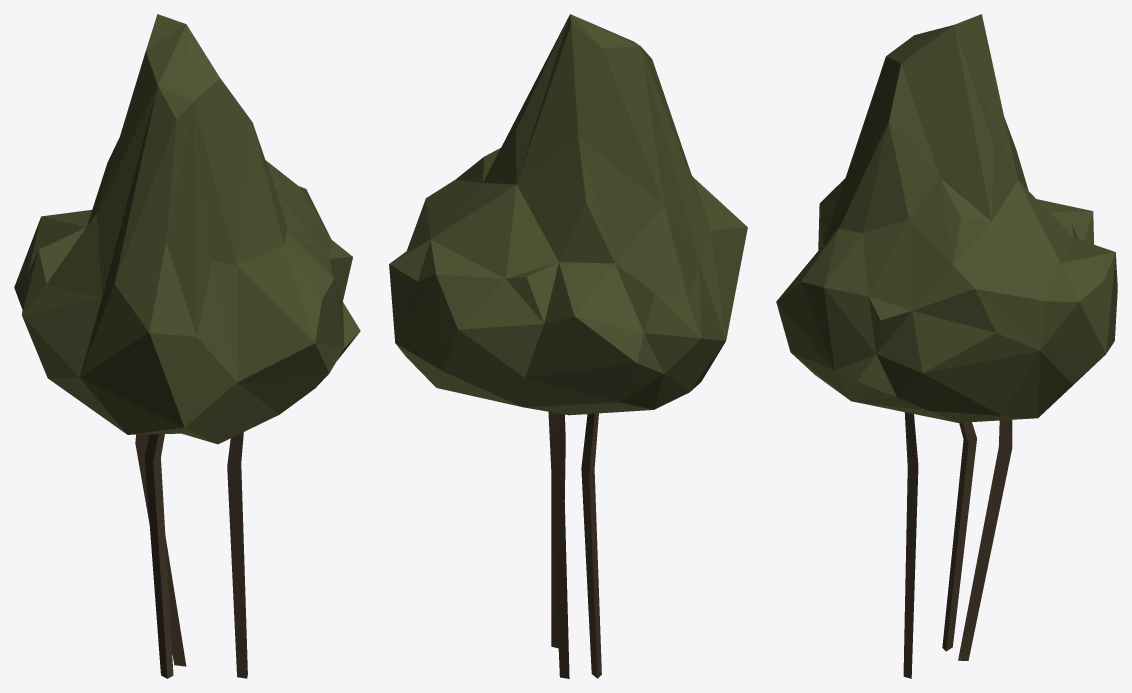
Rendered from SM_Env_Bush_02.glb.
3 views of the same model, side by side, from view 1: azimuth 30°, elevation 25°; view 2: azimuth 150°, elevation 25°; view 3: azimuth 270°, elevation 25° (orthographic). The views are drawn at different scales.
Parts seen in each view (by area): view 1: SM_Env_Bush_02; view 2: SM_Env_Bush_02; view 3: SM_Env_Bush_02.
Boxes of the visible parts, left/top/right/bottom form: SM_Env_Bush_02: left=14, top=14, right=360, bottom=678; SM_Env_Bush_02: left=389, top=14, right=747, bottom=678; SM_Env_Bush_02: left=776, top=14, right=1117, bottom=678.
Size of the model in its own units: 0.00715 by 0.0153 by 0.00742.
